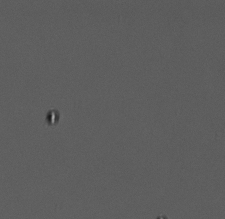Living Cell: (45, 108, 60, 127)
